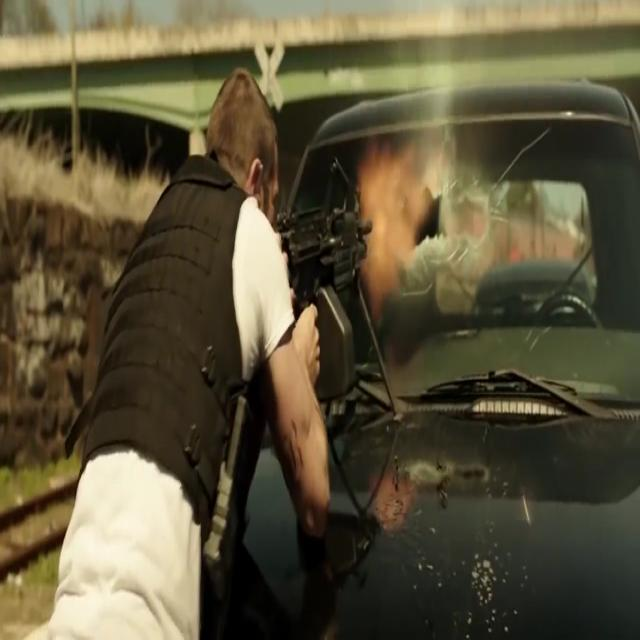Weapon: (274, 199, 389, 395)
